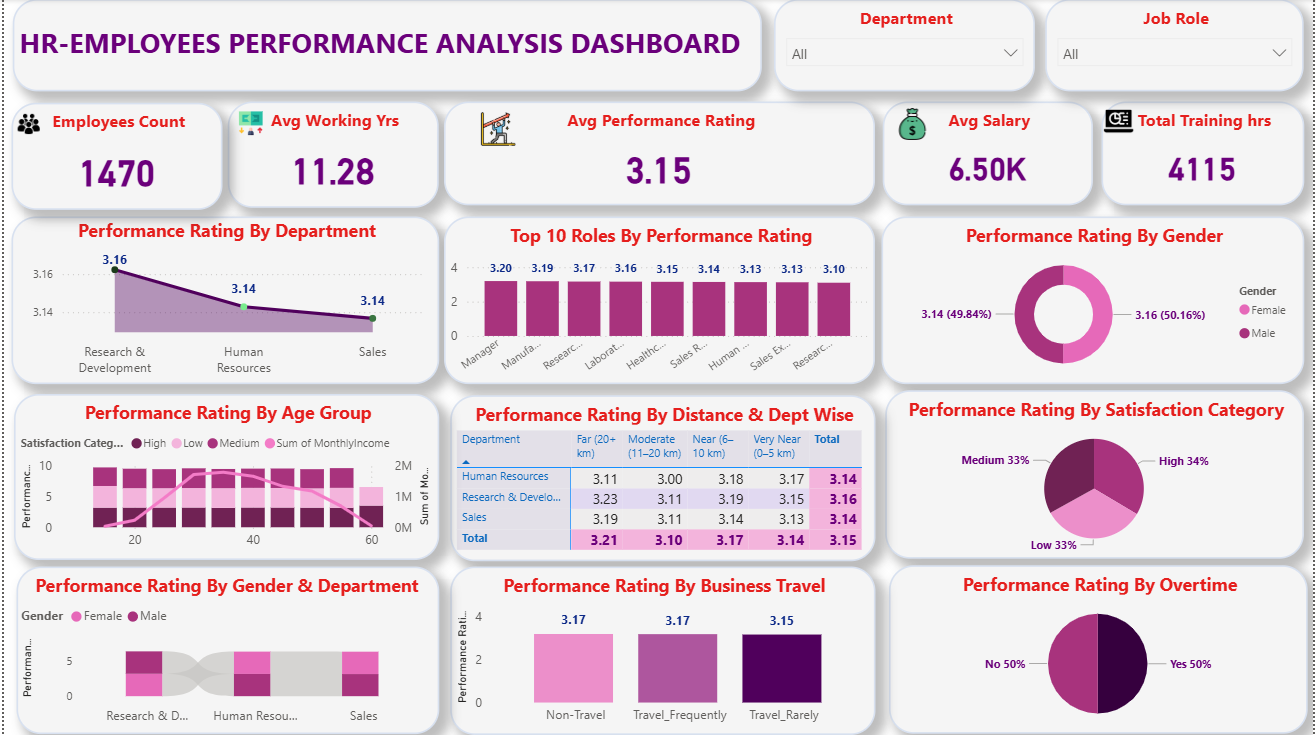

What the dashboard file says about the page in this screenshot:
{"tool":"powerbi","page":{"name":"Performance Analysis","canvas":[1280,720],"ordinal":1},"visuals":[{"type":"textbox","box":[8.6,0,732.5,90.5],"z":0},{"type":"card","title":"Avg Working Yrs","fields":{"Values":["Avg(HR_Project_Power BI.TotalWorkingYears)"]},"box":[218.9,100.3,206.7,103.9],"z":2000},{"type":"card","title":"Avg Performance Rating","fields":{"Values":["Avg(HR_Project_Power BI.PerformanceRating)"]},"box":[430.4,100.3,421.9,101.5],"z":3000},{"type":"card","title":"Avg Salary","fields":{"Values":["Avg(HR_Project_Power BI.MonthlyIncome)"]},"box":[859.7,100.3,205.4,101.5],"z":4000},{"type":"card","title":"Total Training hrs","fields":{"Values":["Sum(HR_Project_Power BI.TrainingTimesLastYear)"]},"box":[1073.6,100.3,198.1,101.5],"z":5000},{"type":"areaChart","title":"Performance Rating By Department","fields":{"Category":["HR_Project_Power BI.Department"],"Y":["Avg(HR_Project_Power BI.PerformanceRating)"]},"box":[7.3,212.8,418.2,163.9],"z":6000},{"type":"card","title":"Employees Count","fields":{"Values":["Count(HR_Project_Power BI.EmployeeNumber)"]},"box":[7.3,101.5,206.7,105.2],"z":7000},{"type":"image","box":[8.2,100.2,31.6,43.9],"z":8000},{"type":"image","box":[225,105.7,32.9,32.9],"z":9000},{"type":"image","box":[448.8,105.2,69.7,44],"z":10000},{"type":"image","box":[868.6,100.2,41.2,43.9],"z":11000},{"type":"image","box":[1069,100.2,43.9,38.4],"z":12000},{"type":"lineStackedColumnComboChart","title":"Top 10 Roles By Performance Rating","fields":{"Category":["HR_Project_Power BI.JobRole"],"Y":["Avg(HR_Project_Power BI.PerformanceRating)"]},"box":[430.4,212.8,421.9,163.9],"z":13000},{"type":"slicer","title":"Department","fields":{"Values":["HR_Project_Power BI.Department"]},"box":[753.3,0,255.6,90.5],"z":14000},{"type":"slicer","title":"Job Role","fields":{"Values":["HR_Project_Power BI.JobRole"]},"box":[1018.6,0,253.1,90.5],"z":15000},{"type":"donutChart","title":"Performance Rating By Gender","fields":{"Category":["HR_Project_Power BI.Gender"],"Y":["Avg(HR_Project_Power BI.PerformanceRating)"]},"box":[858.4,212.8,413.3,163.9],"z":16000},{"type":"pieChart","title":"Performance Rating By Satisfaction Category","fields":{"Category":["HR_Project_Power BI.Satisfaction Category"],"Y":["HR_Project_Power BI.Performance Rating"]},"box":[862.1,382.7,409.6,165.1],"z":17000},{"type":"pieChart","title":"Performance Rating By Overtime","fields":{"Y":["HR_Project_Power BI.Performance Rating"],"Category":["HR_Project_Power BI.OverTime"]},"box":[865.8,553.9,409.6,165.1],"z":18000},{"type":"pivotTable","title":"Performance Rating By Distance & Dept Wise","fields":{"Values":["HR_Project_Power BI.Performance Rating"],"Columns":["HR_Project_Power BI.Distance Group"],"Rows":["HR_Project_Power BI.Department"]},"box":[436.6,387.6,415.8,162.6],"z":19000},{"type":"columnChart","title":"Performance Rating By Business Travel","fields":{"Y":["HR_Project_Power BI.Performance Rating"],"Category":["HR_Project_Power BI.BusinessTravel"]},"box":[436.6,555.2,415.8,165.1],"z":20000},{"type":"lineStackedColumnComboChart","title":"Performance Rating By Age Group ","fields":{"Category":["HR_Project_Power BI.Age (bins)"],"Series":["HR_Project_Power BI.Satisfaction Category"],"Y2":["Sum(HR_Project_Power BI.MonthlyIncome)"],"Y":["HR_Project_Power BI.Performance Rating"]},"box":[9.8,386.4,415.8,162.6],"z":21000},{"type":"ribbonChart","title":"Performance Rating By Gender & Department","fields":{"Category":["HR_Project_Power BI.Department"],"Y":["HR_Project_Power BI.Performance Rating"],"Series":["HR_Project_Power BI.Gender"]},"box":[12.2,555.2,413.3,163.9],"z":22000}]}

Visuals, with their boxes in screenshot pixels (x1, y1, x2, y2), scaled from the page's 1280x720 canvas onto the 1316x735 screenshot:
textbox: {"x1": 9, "y1": 0, "x2": 762, "y2": 92}
"Avg Working Yrs" card: {"x1": 225, "y1": 102, "x2": 438, "y2": 208}
"Avg Performance Rating" card: {"x1": 443, "y1": 102, "x2": 876, "y2": 206}
"Avg Salary" card: {"x1": 884, "y1": 102, "x2": 1095, "y2": 206}
"Total Training hrs" card: {"x1": 1104, "y1": 102, "x2": 1307, "y2": 206}
"Performance Rating By Department" areaChart: {"x1": 8, "y1": 217, "x2": 437, "y2": 385}
"Employees Count" card: {"x1": 8, "y1": 104, "x2": 220, "y2": 211}
image: {"x1": 8, "y1": 102, "x2": 41, "y2": 147}
image: {"x1": 231, "y1": 108, "x2": 265, "y2": 141}
image: {"x1": 461, "y1": 107, "x2": 533, "y2": 152}
image: {"x1": 893, "y1": 102, "x2": 935, "y2": 147}
image: {"x1": 1099, "y1": 102, "x2": 1144, "y2": 141}
"Top 10 Roles By Performance Rating" lineStackedColumnComboChart: {"x1": 443, "y1": 217, "x2": 876, "y2": 385}
"Department" slicer: {"x1": 774, "y1": 0, "x2": 1037, "y2": 92}
"Job Role" slicer: {"x1": 1047, "y1": 0, "x2": 1307, "y2": 92}
"Performance Rating By Gender" donutChart: {"x1": 883, "y1": 217, "x2": 1307, "y2": 385}
"Performance Rating By Satisfaction Category" pieChart: {"x1": 886, "y1": 391, "x2": 1307, "y2": 559}
"Performance Rating By Overtime" pieChart: {"x1": 890, "y1": 565, "x2": 1311, "y2": 734}
"Performance Rating By Distance & Dept Wise" pivotTable: {"x1": 449, "y1": 396, "x2": 876, "y2": 562}
"Performance Rating By Business Travel" columnChart: {"x1": 449, "y1": 567, "x2": 876, "y2": 734}
"Performance Rating By Age Group " lineStackedColumnComboChart: {"x1": 10, "y1": 394, "x2": 438, "y2": 560}
"Performance Rating By Gender & Department" ribbonChart: {"x1": 13, "y1": 567, "x2": 437, "y2": 734}
